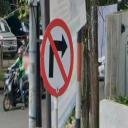NoVirarDireita: (38, 17, 75, 98)
